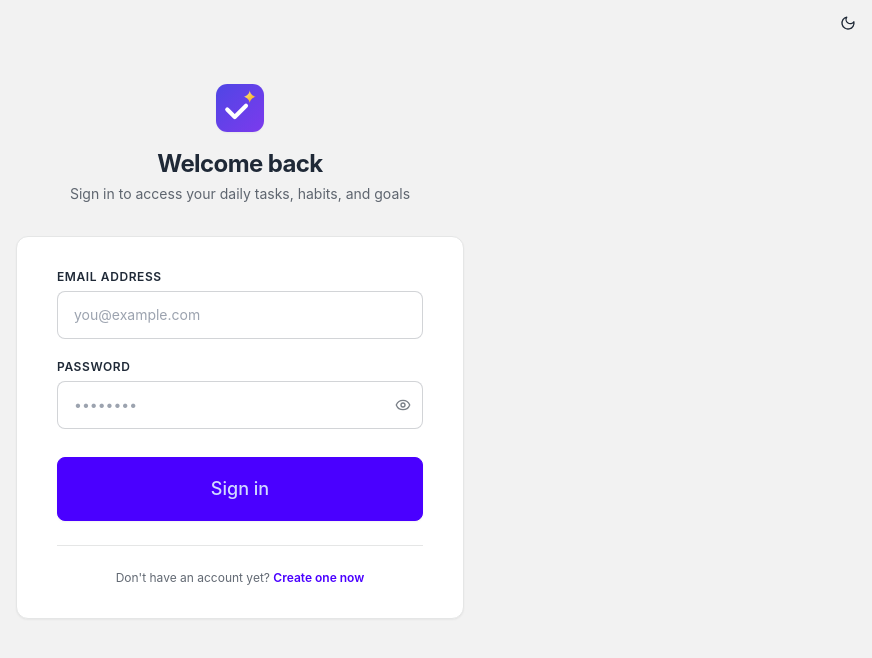
Test: AuthPage UI & Interaction Component › validates invalid email input with inline error
Type "not-an-email" into the field labelled "Email address" at (240,314), box [57,290,423,338]
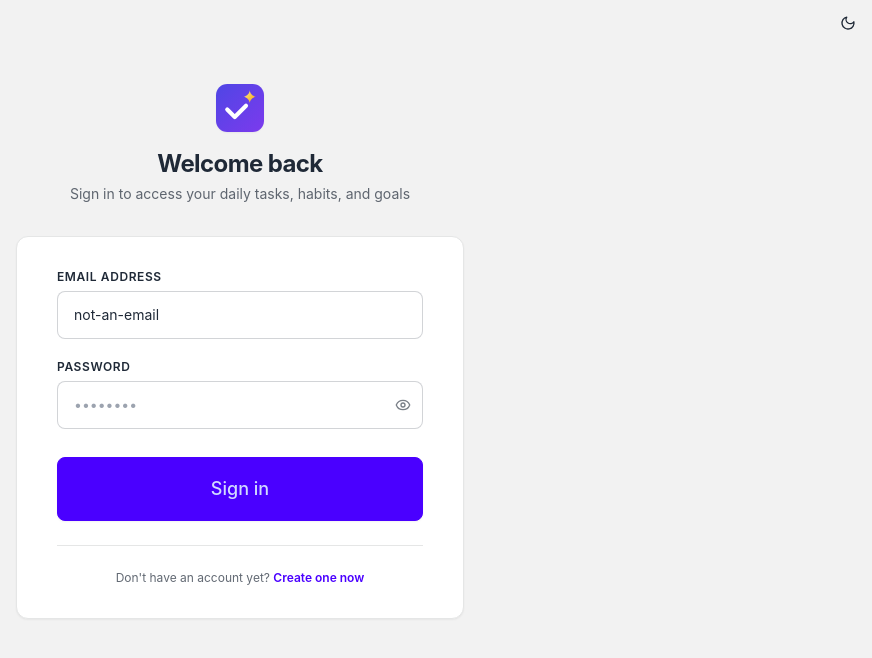
Click the button "Sign in" at (240,488), box [57,456,423,520]
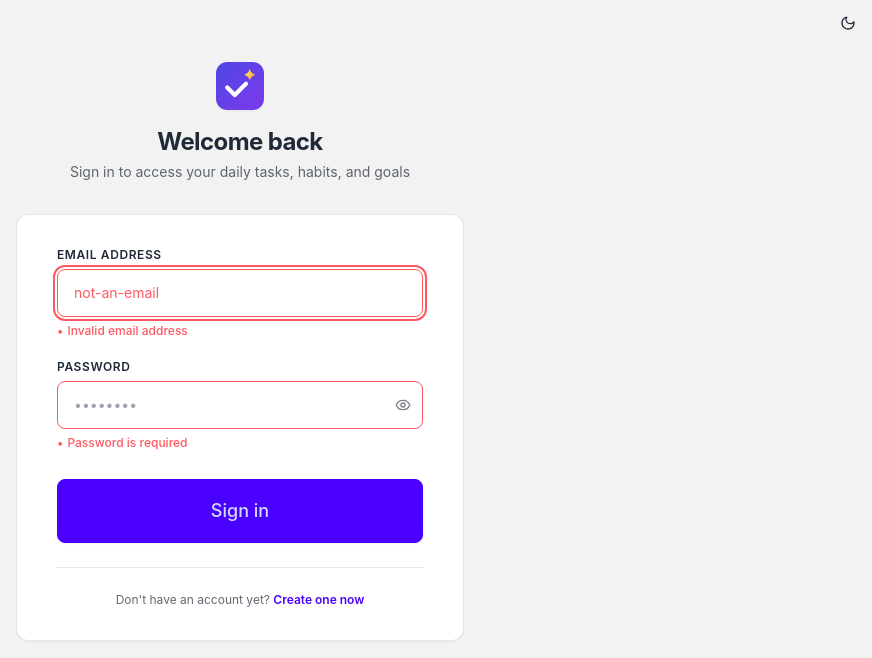
expect the text "• Invalid email address" is shown: met, box [57,322,188,338]
